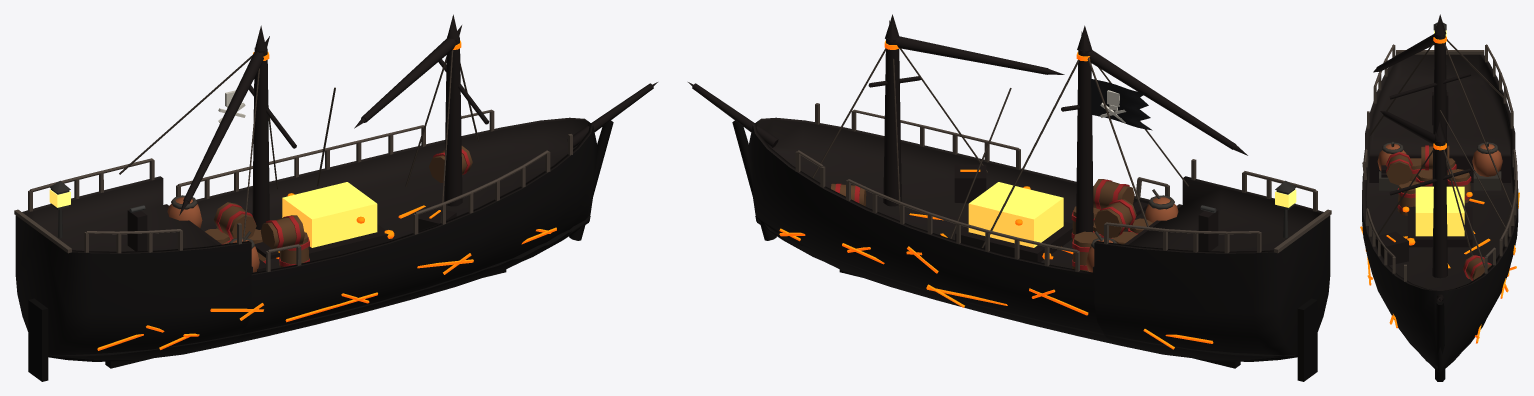
File: fire-ship-2-firepots.glb
3 renders of one model, left to right at view 1: azimuth 30°, elevation 25°; view 2: azimuth 150°, elevation 25°; view 3: azimuth 270°, elevation 25°, orthographic. The views are drawn at different scales.
Visible parts, largest first — view 1: Mesh_Hull, Mesh_DeckAndBulwarks, Mesh_FireCore, Mesh_MainMastStump, Mesh_ForeMastStump, Mesh_MainMastFallen, Mesh_Rudder, Mesh_HullLower, Mesh_ForeMastFallen, Mesh_HatchRim, Mesh_Barrel6, Mesh_Barrel5 (+4 smaller); view 2: Mesh_Hull, Mesh_DeckAndBulwarks, Mesh_FireCore, Mesh_MainMastStump, Mesh_ForeMastStump, Mesh_MainMastFallen, Mesh_Flag_Tattered, Mesh_Rudder, Mesh_HatchRim, Mesh_ForeMastFallen, Mesh_HullLower, Mesh_Crate (+6 smaller); view 3: Mesh_DeckAndBulwarks, Mesh_Hull, Mesh_ForeMastStump, Mesh_FireCore, Mesh_MainMastStump, Mesh_HatchRim, Mesh_QuarterBulkhead, Mesh_Crate, Mesh_FirePot_0, Mesh_Barrel6, Mesh_Stem, Mesh_MainMastFallen (+23 smaller).
Boxes of the visible parts, x1,y1,x2,y2 form: Mesh_Hull: (15,125,597,360); Mesh_DeckAndBulwarks: (22,117,592,275); Mesh_FireCore: (282,182,377,247); Mesh_MainMastStump: (252,47,269,229); Mesh_ForeMastStump: (444,36,462,206); Mesh_MainMastFallen: (183,51,265,203); Mesh_Rudder: (28,298,48,381); Mesh_HullLower: (48,216,590,361); Mesh_ForeMastFallen: (361,37,458,122); Mesh_HatchRim: (308,224,390,261); Mesh_Barrel6: (260,215,304,248); Mesh_Barrel5: (214,202,256,238); Mesh_Hull: (748,125,1330,360); Mesh_DeckAndBulwarks: (753,117,1323,275); Mesh_FireCore: (968,182,1063,247); Mesh_MainMastStump: (1076,49,1093,233); Mesh_ForeMastStump: (883,37,901,206); Mesh_MainMastFallen: (1087,50,1235,149); Mesh_Flag_Tattered: (1091,78,1152,130); Mesh_Rudder: (1297,298,1317,381); Mesh_HatchRim: (955,221,1072,262); Mesh_ForeMastFallen: (894,36,1048,74); Mesh_HullLower: (755,216,1297,361); Mesh_Crate: (954,164,986,203); Mesh_DeckAndBulwarks: (1362,54,1518,290); Mesh_Hull: (1362,200,1518,373); Mesh_ForeMastStump: (1432,139,1447,278); Mesh_FireCore: (1415,186,1464,236); Mesh_MainMastStump: (1432,33,1447,186); Mesh_HatchRim: (1407,206,1472,247); Mesh_QuarterBulkhead: (1369,154,1510,182); Mesh_Crate: (1375,231,1408,265); Mesh_FirePot_0: (1472,144,1502,176); Mesh_Barrel6: (1386,151,1412,185); Mesh_Stem: (1435,301,1445,381); Mesh_MainMastFallen: (1376,33,1435,71).
Bounding box in the file's own units: 18.16 × 8.46 × 4.9.
